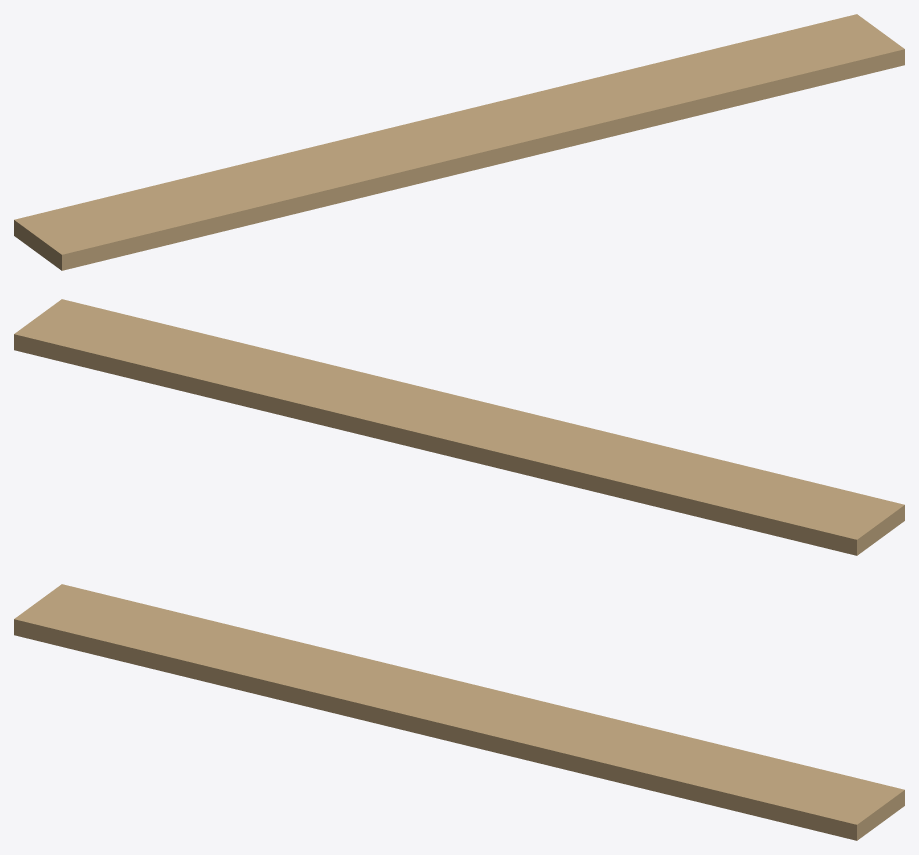
Rendered from 29_central_plank.glb.
The picture shows the model from 3 angles, top to bottom: view 1: azimuth 30°, elevation 25°; view 2: azimuth 150°, elevation 25°; view 3: azimuth 330°, elevation 25°; orthographic projection.
Parts seen in each view (by area): view 1: 29_central_plank; view 2: 29_central_plank; view 3: 29_central_plank.
Part boxes in pixels (x1,y1,x2,y2): 29_central_plank: (14, 14, 904, 270); 29_central_plank: (14, 299, 904, 555); 29_central_plank: (14, 584, 904, 840).
Size of the model in its own units: 132 by 3.75 by 13.
